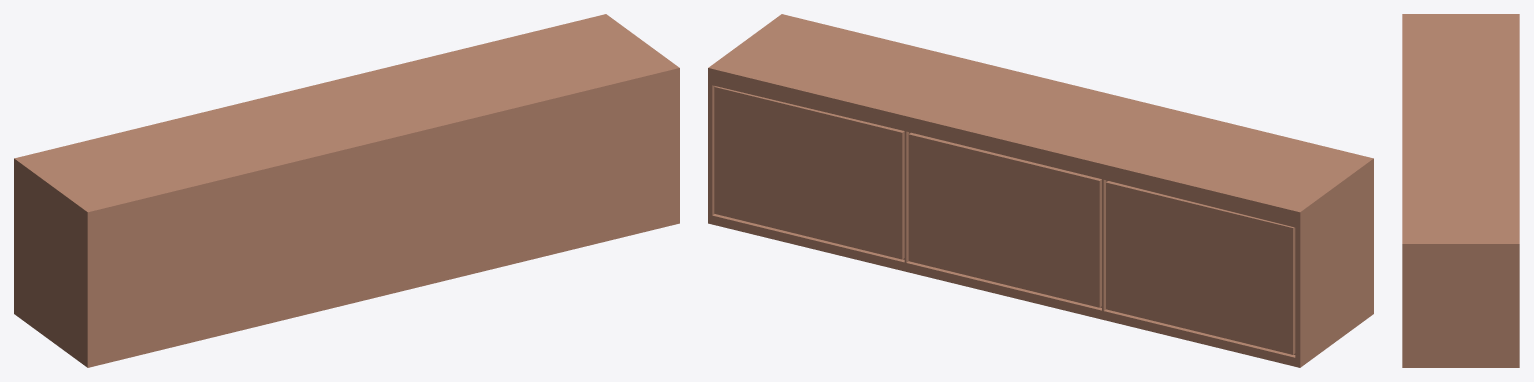
Rendered from MeubleTvSalon.fbx.
The picture shows the model from 3 angles, left to right: view 1: azimuth 30°, elevation 25°; view 2: azimuth 150°, elevation 25°; view 3: azimuth 270°, elevation 25°; orthographic projection. The views are drawn at different scales.
Parts seen in each view (by area): view 1: Cube.021; view 2: Cube.021; view 3: Cube.021.
Boxes of the visible parts, left/top/right/bottom form: Cube.021: left=14, top=14, right=679, bottom=367; Cube.021: left=708, top=14, right=1373, bottom=367; Cube.021: left=1402, top=14, right=1519, bottom=367.
Bounding box in the file's own units: 688 × 173 × 148.
